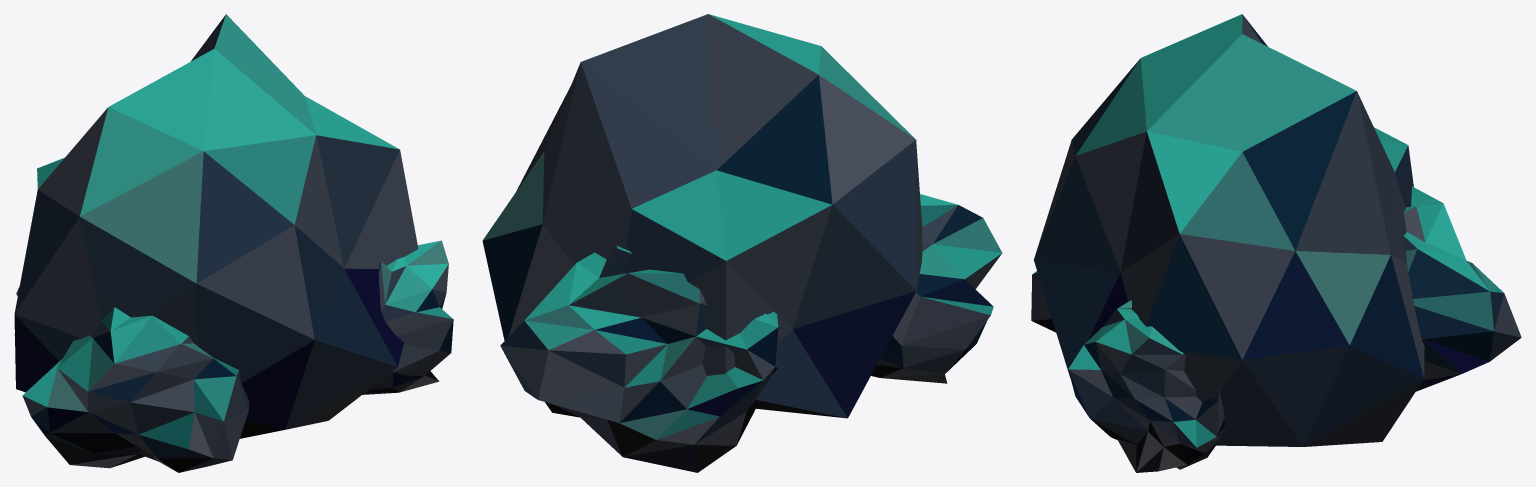
Rendered from batu_boulder_basalt_356661.glb.
The picture shows the model from 3 angles, left to right: view 1: azimuth 30°, elevation 25°; view 2: azimuth 150°, elevation 25°; view 3: azimuth 270°, elevation 25°; orthographic projection. The views are drawn at different scales.
Visible parts, largest first — view 1: Batu_Jeram_Sungai; view 2: Batu_Jeram_Sungai; view 3: Batu_Jeram_Sungai.
Boxes of the visible parts, <box> form: Batu_Jeram_Sungai: <box>14,14,453,472</box>; Batu_Jeram_Sungai: <box>482,14,1002,472</box>; Batu_Jeram_Sungai: <box>1031,14,1521,472</box>.
Bounding box in the file's own units: 6.73 × 5.32 × 6.43.
